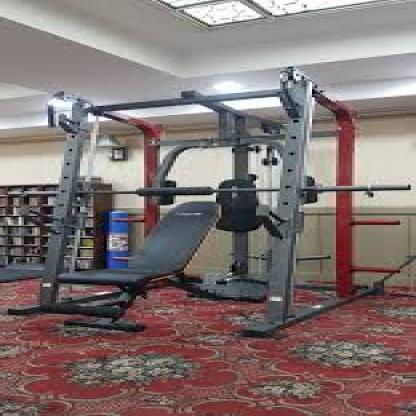smith machine: (50, 67, 410, 338)
